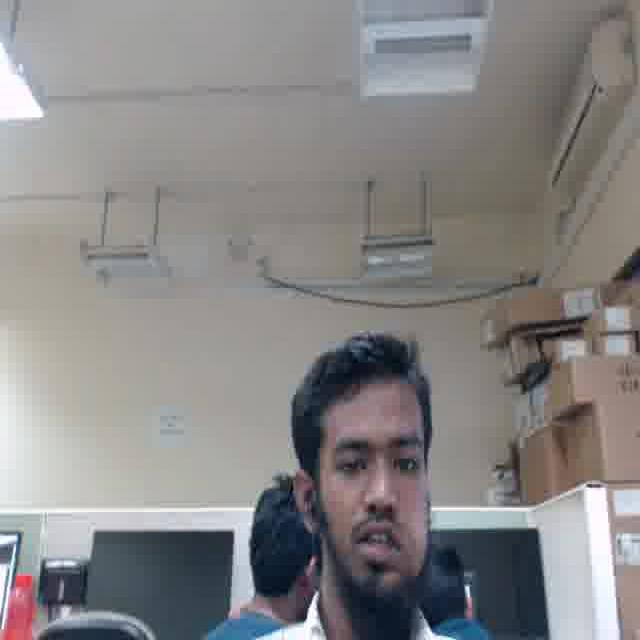Engaged: (320, 391, 430, 588)
